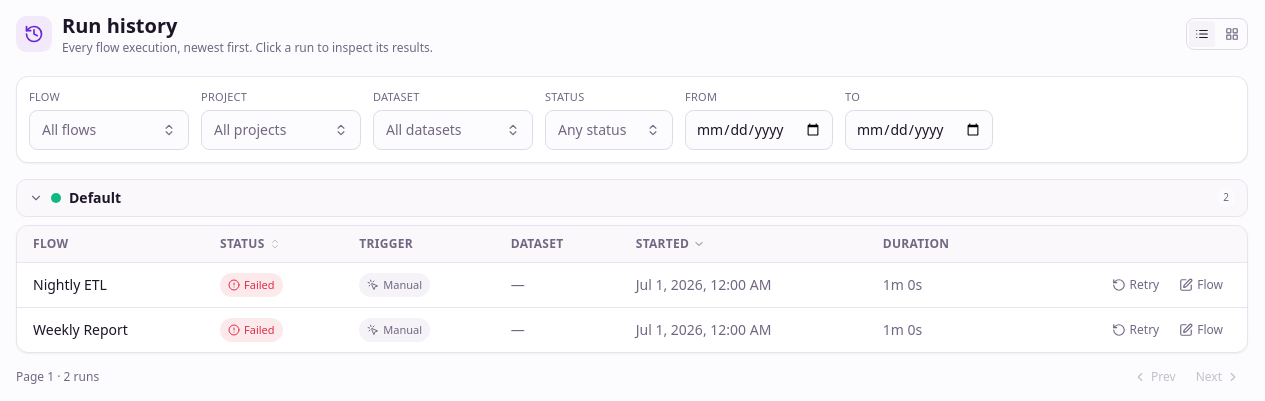
it: RunsPage retry action › ignores a second click on the same run while its own retry is still pending
Expected: the text "Nightly ETL" is shown, [17,262,204,307]
Click the button titled "Re-run the flow with the same config (creates a new run)" in the row of "Nightly ETL" at (1135, 284), box [1104,272,1167,296]
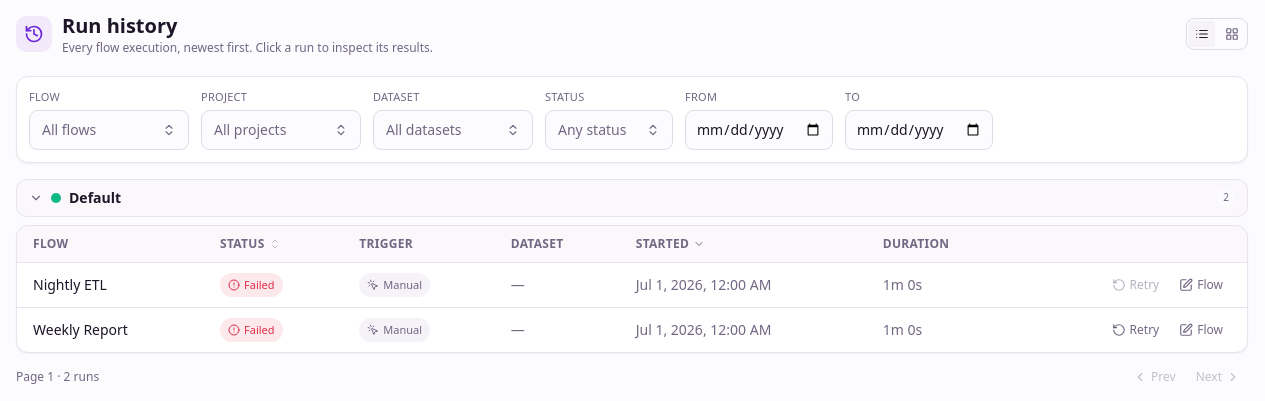
Result: the button titled "Re-run the flow with the same config (creates a new run)" in the row of "Nightly ETL" is disabled
Click the button titled "Re-run the flow with the same config (creates a new run)" in the row of "Nightly ETL" at (1135, 284), box [1104,272,1167,296]
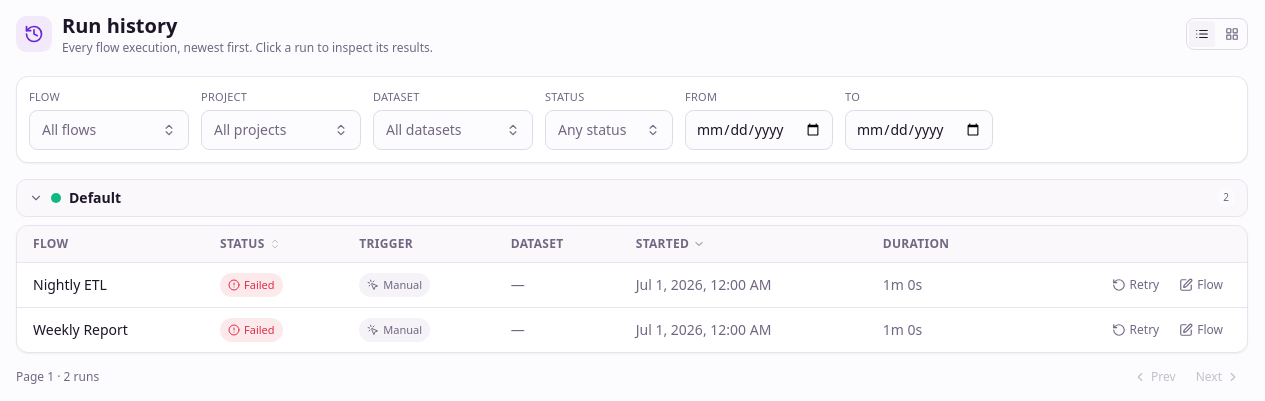
Result: the button titled "Re-run the flow with the same config (creates a new run)" in the row of "Nightly ETL" is enabled at [1104,272,1167,296]
